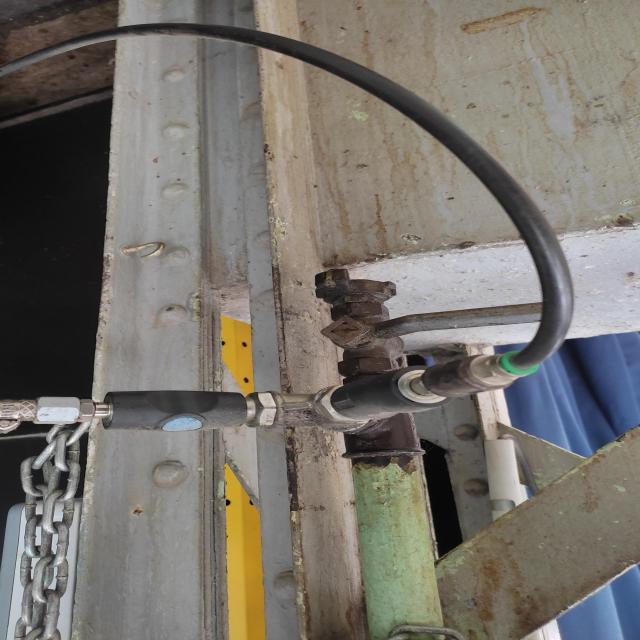closed_valve: (319, 298, 581, 364)
